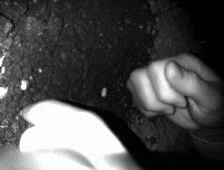corn: (18, 77, 30, 92), (100, 85, 109, 99)
